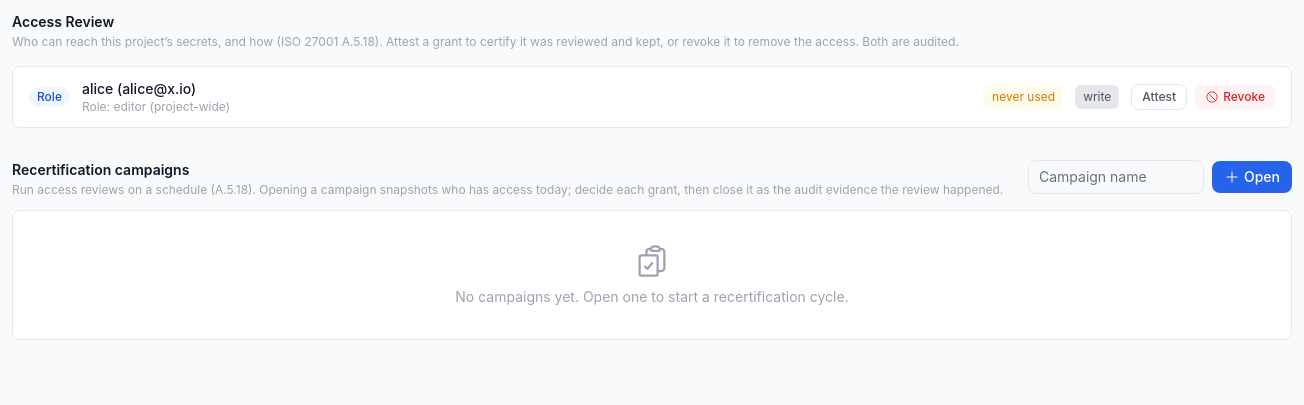
Scenario: ProjectAccessReviewTab › falls back to a generic "Action failed" message with no error payload
Click the button "Attest". click: (1159, 97)
box: [1131,84,1187,110]
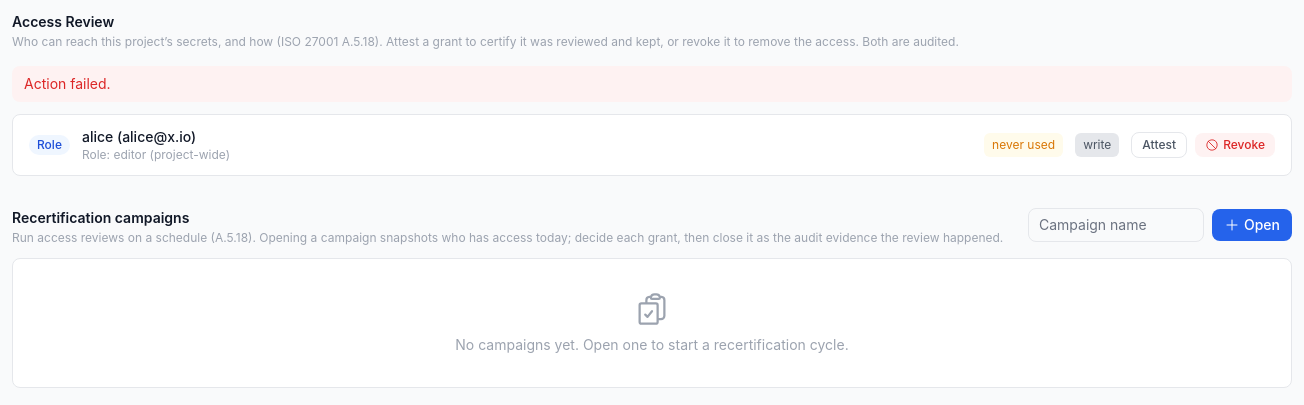
Result: the text "Action failed." is shown at [12,66,1292,102]
